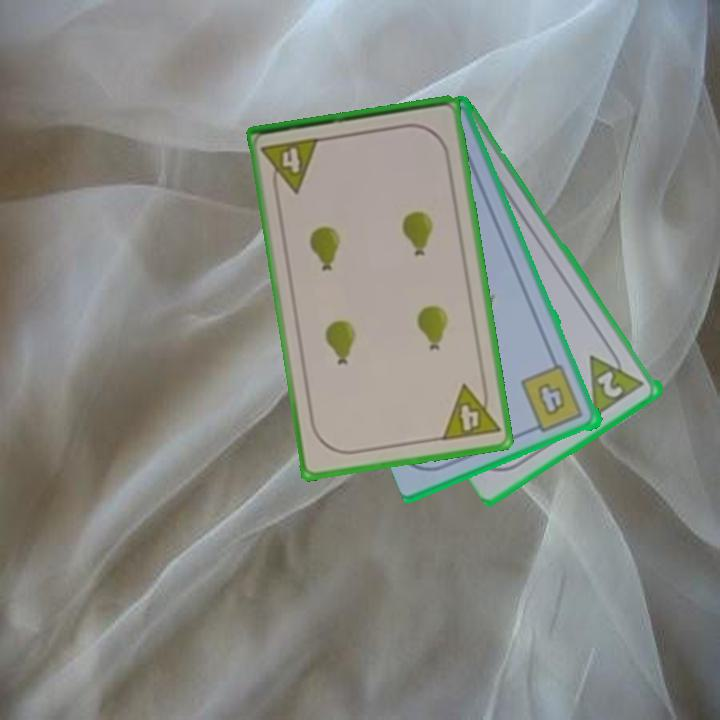2p: (594, 367, 627, 401)
4b: (517, 362, 586, 436)
4p: (438, 378, 503, 444), (258, 134, 323, 198)
